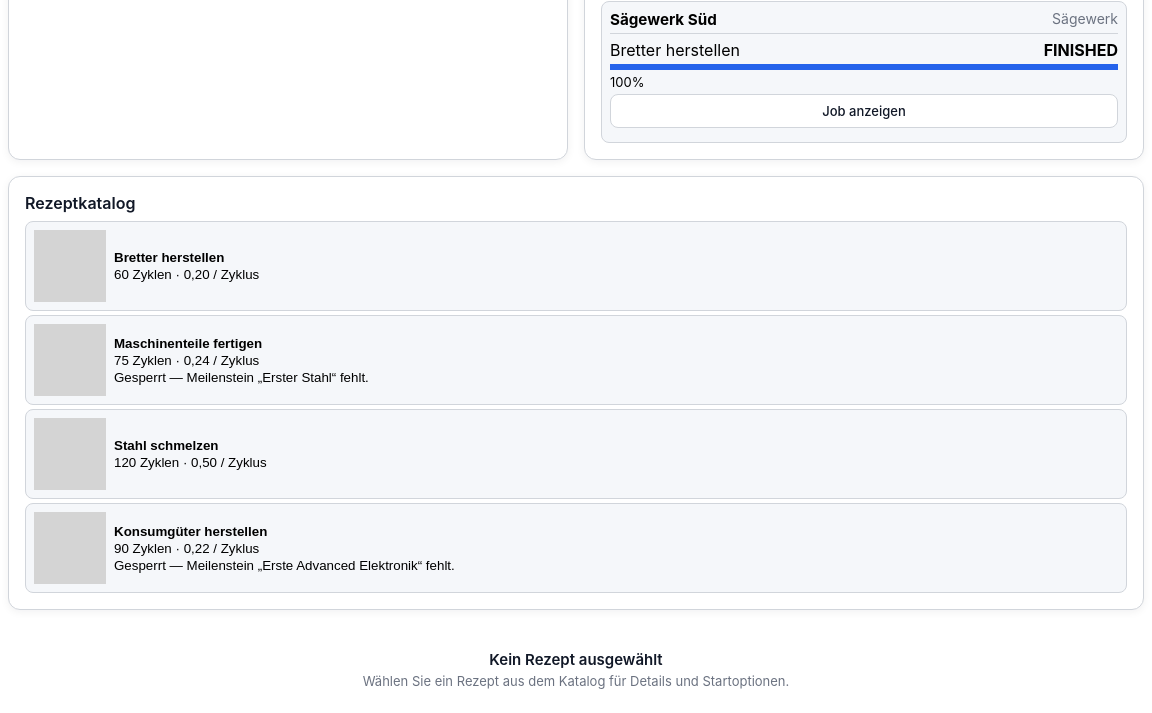
Test: ProductionScreen › shows upstream steel producer for machine parts recipe
The width and height of the screenshot is (1152, 713).
(page scrolled)
Click the button "Maschinenteile fertigen". click: x=70, y=360
box: [25,315,1127,405]
(page scrolled)
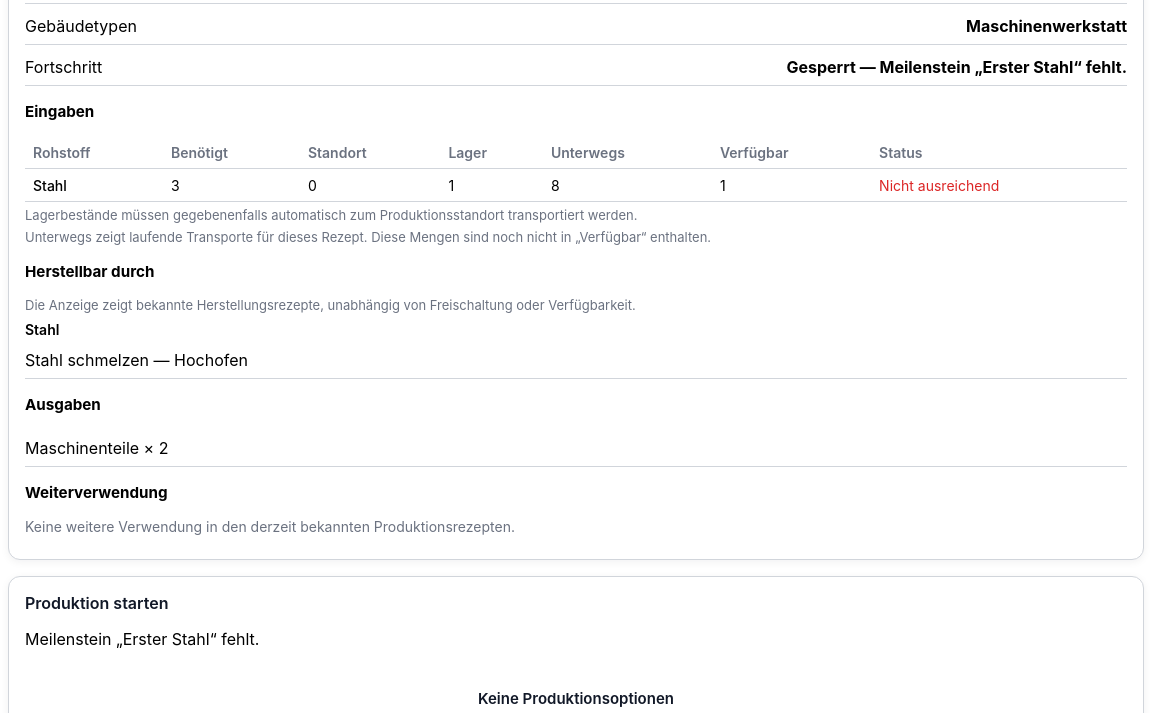
Result: the text "Stahl schmelzen — Hochofen" is shown at [25,350,248,370]
